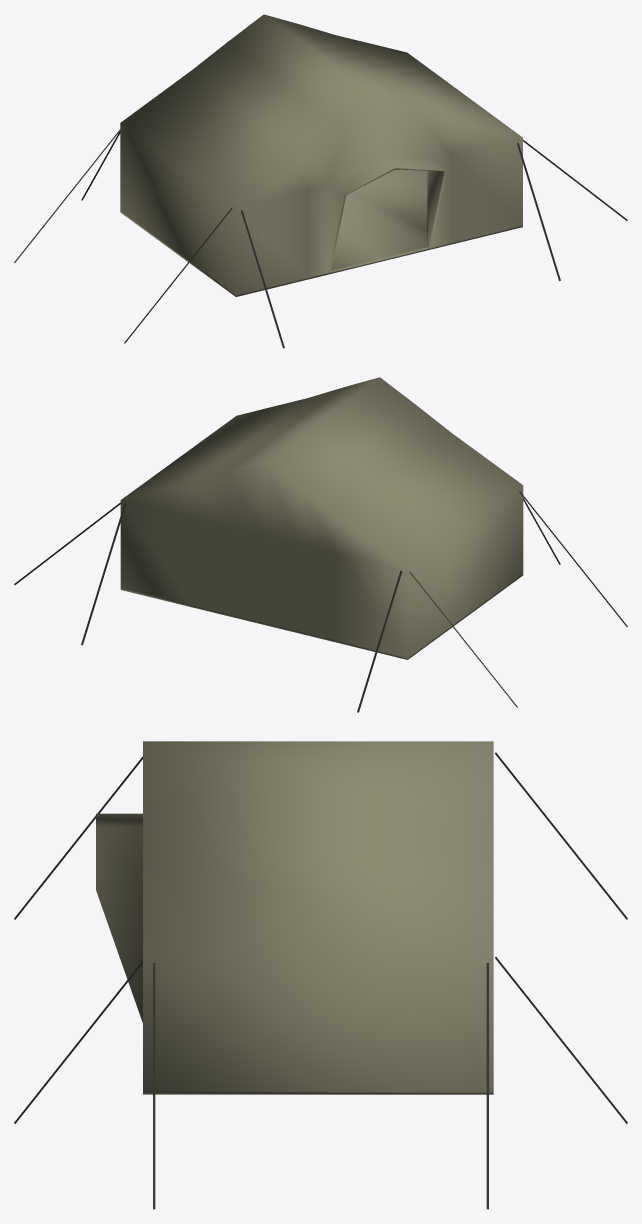
Rendered from Tent_1.fbx.
The picture shows the model from 3 angles, top to bottom: view 1: azimuth 30°, elevation 25°; view 2: azimuth 150°, elevation 25°; view 3: azimuth 270°, elevation 25°; orthographic projection. The views are drawn at different scales.
Parts seen in each view (by area): view 1: Living Tent.001; view 2: Living Tent.001; view 3: Living Tent.001.
Boxes of the visible parts, x1,y1,x2,y2 form: Living Tent.001: (14,14,627,348); Living Tent.001: (14,377,627,712); Living Tent.001: (14,741,627,1209).
Bounding box in the file's own units: 1255 × 443 × 873.
